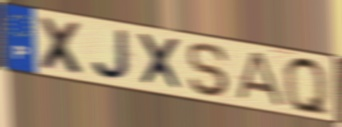A: (232, 50, 287, 110)
J: (90, 28, 136, 83)
Q: (281, 53, 333, 121)
S: (186, 40, 233, 99)
X: (36, 14, 89, 79), (134, 31, 187, 94)
